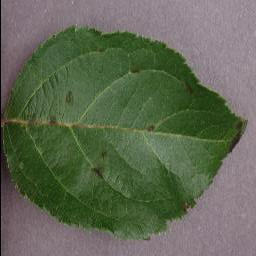apple healthy: (1, 23, 248, 241)
